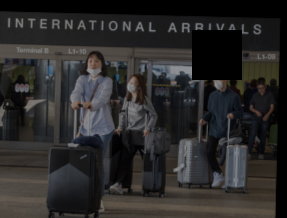mask_weared_incorrect: (85, 56, 101, 78)
with_mask: (125, 78, 138, 96), (212, 76, 224, 91)
without_mask: (256, 84, 265, 94)
